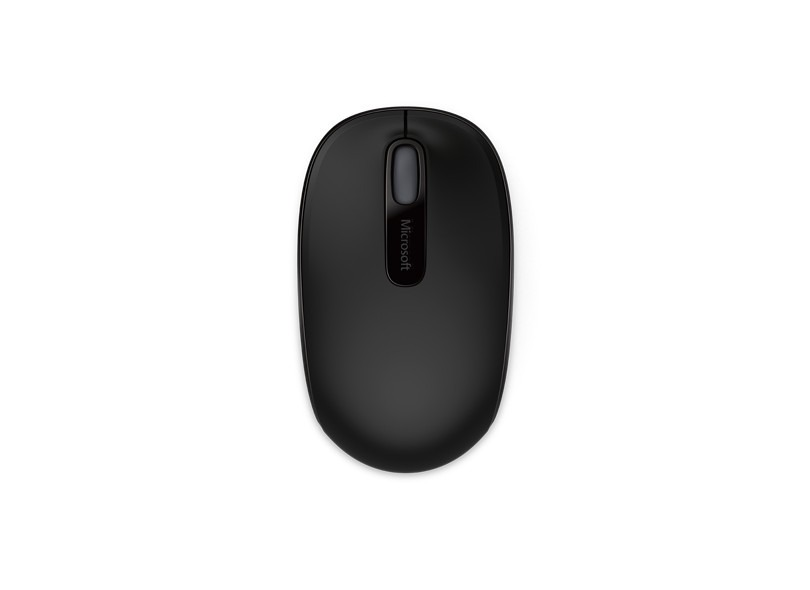mouse: (291, 99, 516, 476)
